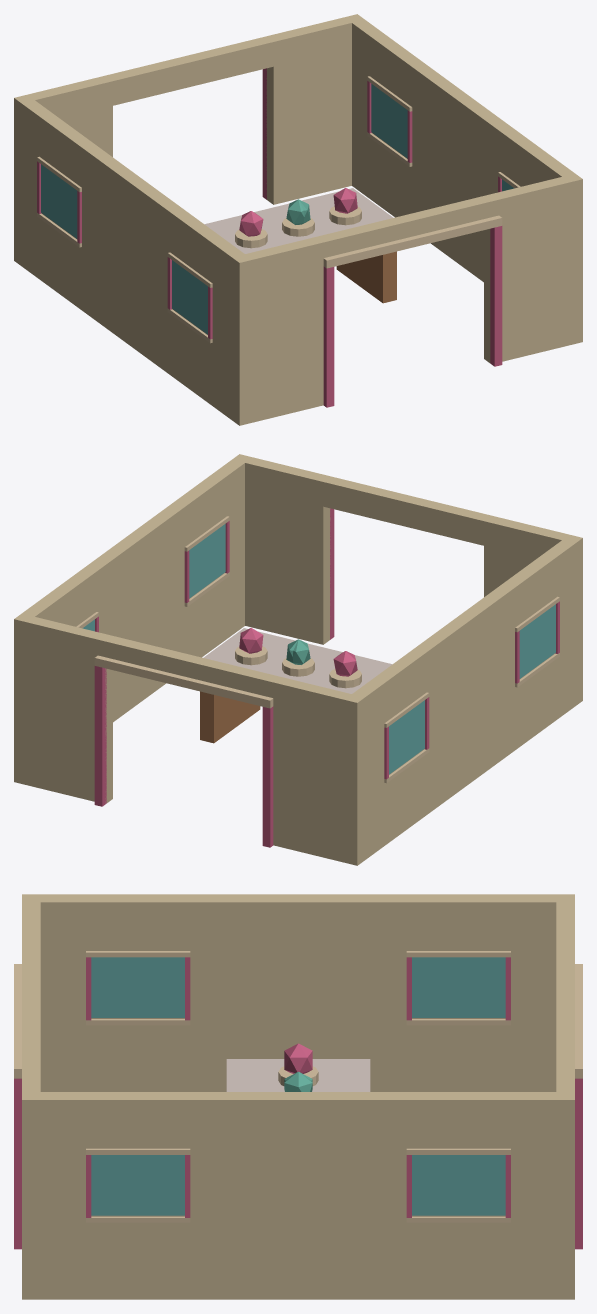
The model's file is Candyland_SweetShopShell_Standard.glb.
The picture shows the model from 3 angles, top to bottom: view 1: azimuth 30°, elevation 25°; view 2: azimuth 150°, elevation 25°; view 3: azimuth 270°, elevation 25°; orthographic projection. The views are drawn at different scales.
Visible parts, largest first — view 1: Candyland_SweetShopShell_Standard; view 2: Candyland_SweetShopShell_Standard; view 3: Candyland_SweetShopShell_Standard.
Part boxes in pixels (x1=…): Candyland_SweetShopShell_Standard: x1=14, y1=14, x2=582, y2=425; Candyland_SweetShopShell_Standard: x1=14, y1=454, x2=582, y2=865; Candyland_SweetShopShell_Standard: x1=14, y1=894, x2=582, y2=1299.
Bounding box in the file's own units: 7.41 × 3.3 × 8.52.
